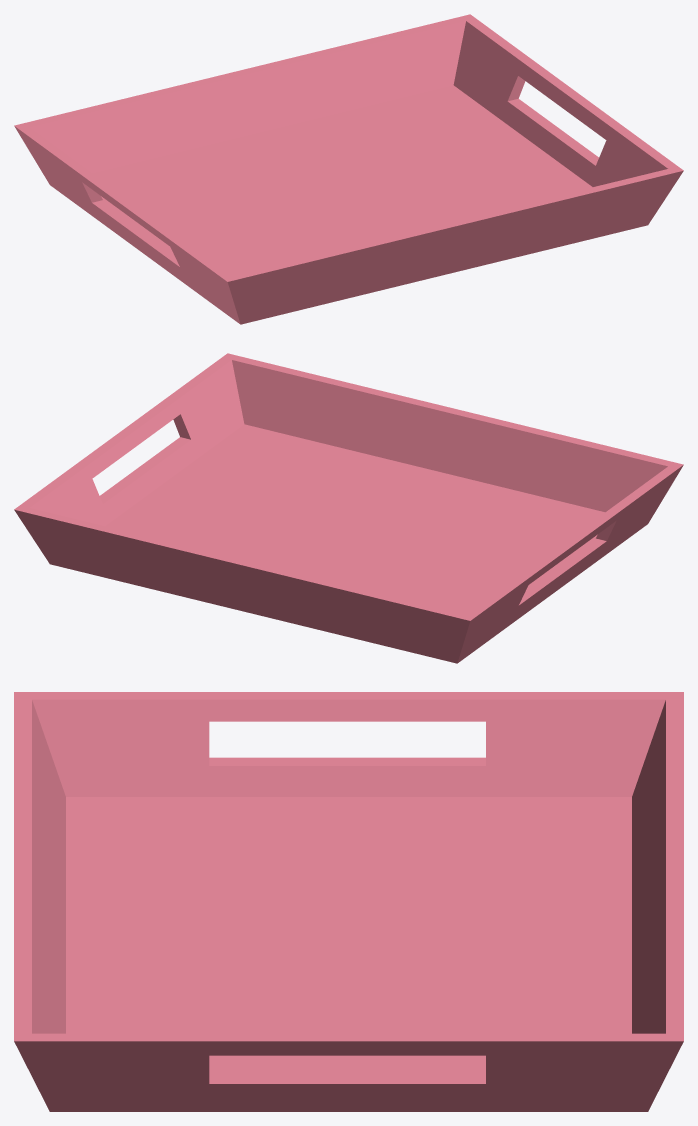
The model's file is tray.fbx.
The picture shows the model from 3 angles, top to bottom: view 1: azimuth 30°, elevation 25°; view 2: azimuth 150°, elevation 25°; view 3: azimuth 270°, elevation 25°; orthographic projection. The views are drawn at different scales.
Parts seen in each view (by area): view 1: Layer0_001; view 2: Layer0_001; view 3: Layer0_001.
Part boxes in pixels (bbox=[...]): Layer0_001: bbox=[14, 14, 683, 324]; Layer0_001: bbox=[14, 353, 683, 663]; Layer0_001: bbox=[14, 692, 683, 1111].
Bounding box in the file's own units: 41.44 × 4.95 × 33.6.
